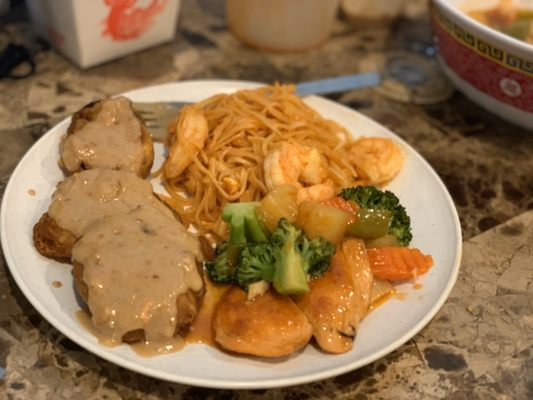curry: (206, 203, 336, 297), (340, 185, 413, 246)
pizza: (223, 0, 342, 53)
sushi: (24, 88, 463, 399), (428, 0, 533, 134)
